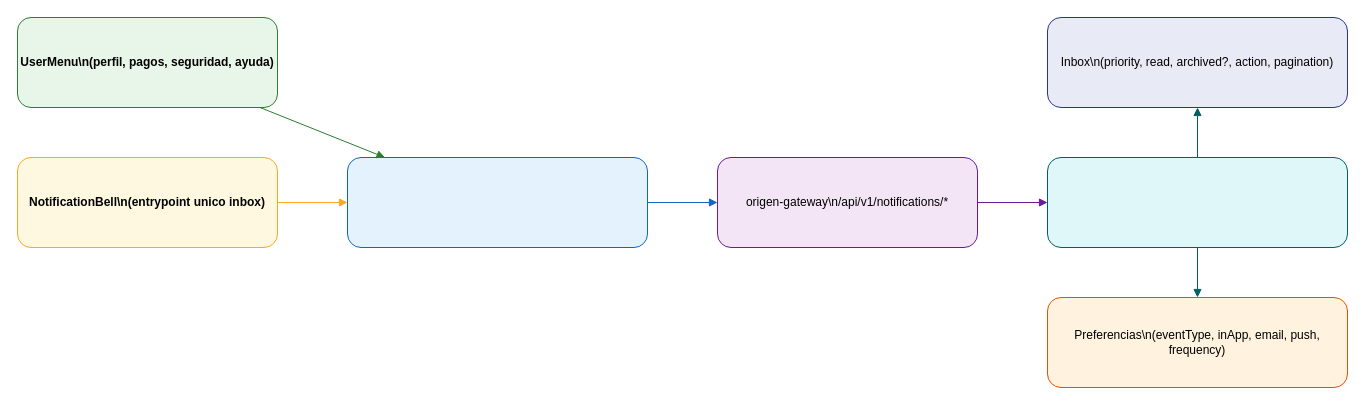
This 1365x405 diagram has some shape labels left out. The box of each missing label's shape, as (x1, y1, x2, y2) in pixels:
/dashboard/notifications\nview=inbox | view=preferences: (346, 156, 648, 248)
origen-master-microservices\nnotifications module: (1046, 156, 1348, 248)
